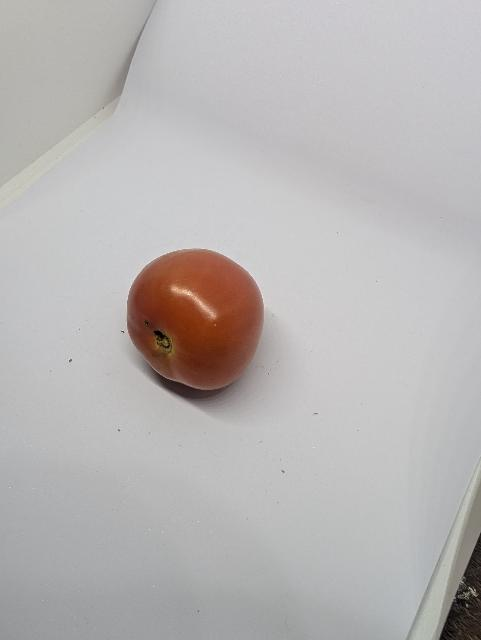red: (115, 240, 278, 404)
